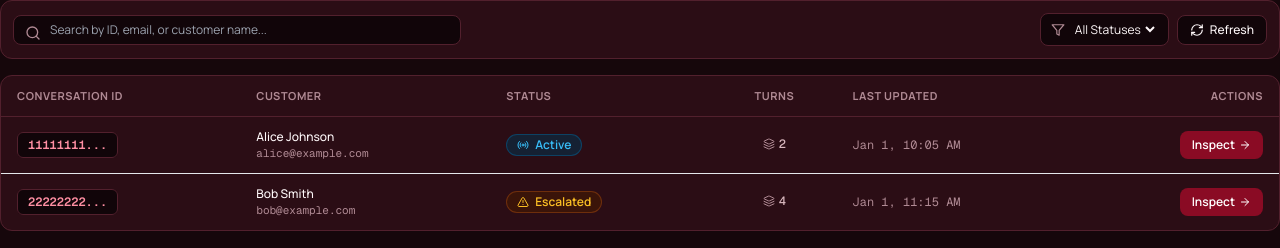
it: ConversationTable › filters rows when typing in the search box
The image size is (1280, 248).
Type "alice" into the field with test id "search-input" at (237, 30), box x1=13 y1=14 x2=461 y2=44
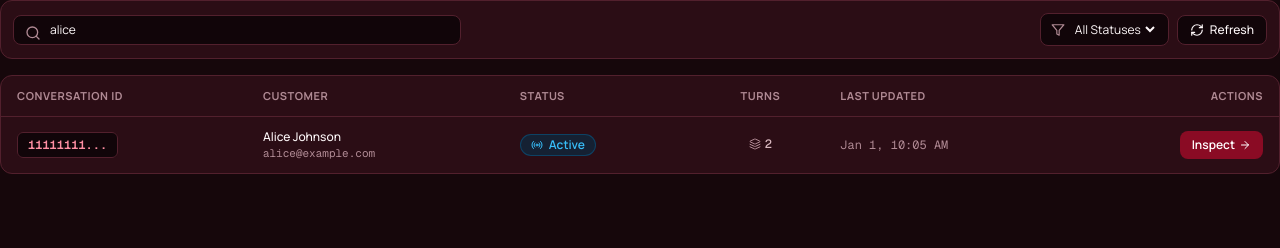
Check: the text "Alice Johnson" is shown, box x1=263 y1=128 x2=341 y2=145
Check: the text "Bob Smith" is gone
